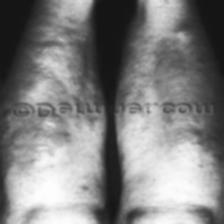Unclassified: (46, 60, 88, 78)
